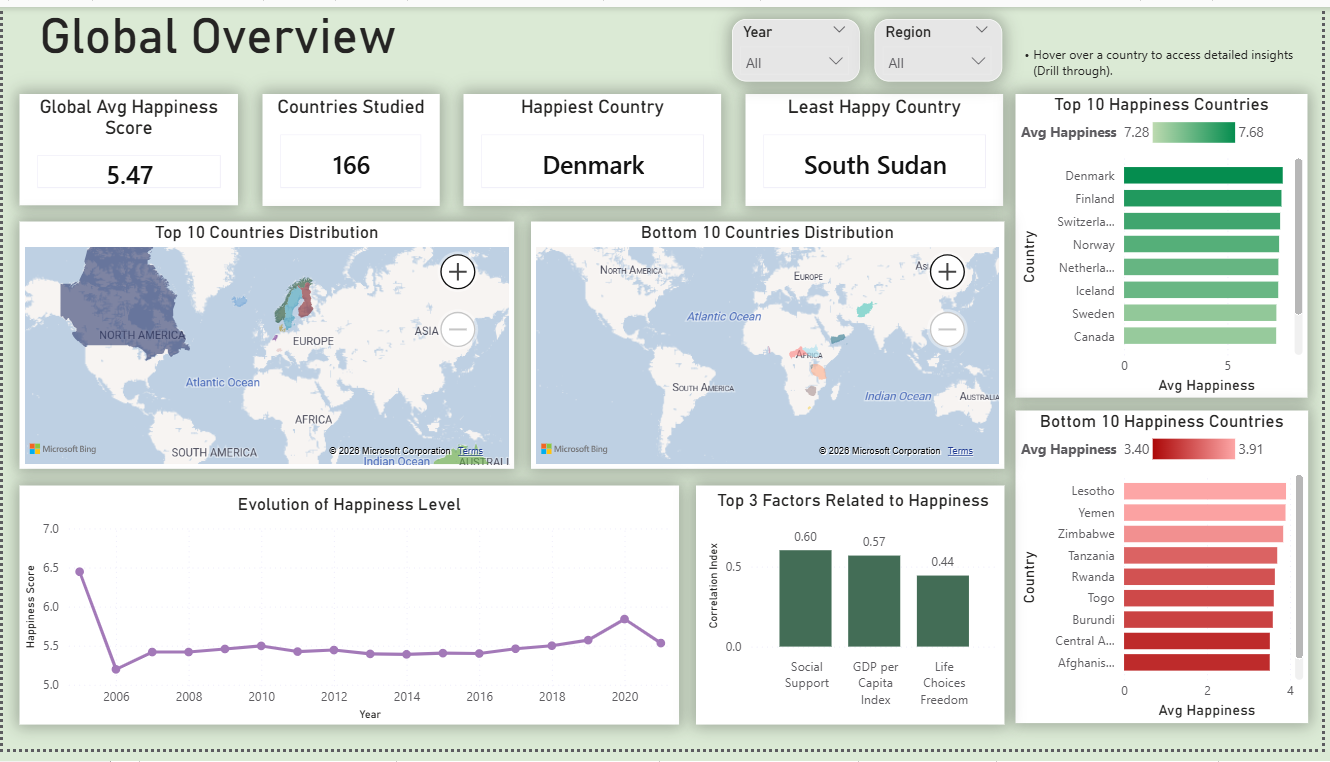

This screenshot's page, from the dashboard's own definition file:
{"tool":"powerbi","page":{"name":"Overview","canvas":[1280,720],"ordinal":10},"visuals":[{"type":"cardVisual","title":"Global Avg Happiness Score","fields":{"Data":["Measures (2).Avg Happiness"]},"box":[16,85,212,108],"z":0},{"type":"cardVisual","title":"Countries Studied","fields":{"Data":["Measures (2).Country Count"]},"box":[251.7,85,171.7,108.3],"z":1000},{"type":"cardVisual","title":"Happiest Country","fields":{"Data":["Measures (2).Top Happiness Country"]},"box":[446.7,85,250,108.3],"z":2000},{"type":"cardVisual","title":"Least Happy Country","fields":{"Data":["Measures (2).Bottom Happiness Country"]},"box":[720,85,250,108.3],"z":3000},{"type":"slicer","fields":{"Values":["dim_year.Year"]},"box":[707,11,123.9,60.9],"z":4000},{"type":"slicer","fields":{"Values":["dim_country.Region"]},"box":[846,11,123.9,60.9],"z":5000},{"type":"textbox","title":"Global Overview ","box":[16,0,576,64],"z":6000},{"type":"clusteredBarChart","title":"Top 10 Happiness Countries","fields":{"Y":["Measures (2).Avg Happiness"],"Category":["dim_country.Country"]},"box":[982.7,85,283.5,294.8],"z":7000},{"type":"clusteredBarChart","title":"Top 10 Happiness Countries","fields":{"Y":["Measures (2).Avg Happiness"],"Category":["dim_country.Country"]},"box":[982.7,400.6,283,295],"z":8000},{"type":"filledMap","title":"Top 10 Countries Distribution","fields":{"Category":["dim_country.Country"],"Series":["dim_country.Country"]},"box":[16,208,480,240],"z":9000},{"type":"filledMap","title":"Bottom 10 Countries Distribution","fields":{"Category":["dim_country.Country"],"Series":["dim_country.Country"]},"box":[512,208,459,240],"z":10000},{"type":"lineChart","title":"Evolution of Happiness Level ","fields":{"Y":["Model Measures.Avg Happiness"],"Category":["dim_year.Year"]},"box":[16,464,640,232],"z":11000},{"type":"clusteredColumnChart","title":"Top 3 Factors Related to Happiness","fields":{"Category":["Factor.Factor"],"Y":["Model Measures.Correlation Selected"]},"box":[672,464,299,232],"z":12000},{"type":"textbox","box":[976,32,304,64],"z":13000}]}

Visuals, with their boxes in screenshot pixels (x1, y1, x2, y2), scaled from the page's 1280x720 canvas onto the 1330x762 screenshot:
"Global Avg Happiness Score" cardVisual: Rect(17, 90, 237, 204)
"Countries Studied" cardVisual: Rect(262, 90, 440, 205)
"Happiest Country" cardVisual: Rect(464, 90, 724, 205)
"Least Happy Country" cardVisual: Rect(748, 90, 1008, 205)
slicer - dim_year.Year: Rect(735, 12, 863, 76)
slicer - dim_country.Region: Rect(879, 12, 1008, 76)
"Global Overview " textbox: Rect(17, 0, 615, 68)
"Top 10 Happiness Countries" clusteredBarChart: Rect(1021, 90, 1316, 402)
"Top 10 Happiness Countries" clusteredBarChart: Rect(1021, 424, 1315, 736)
"Top 10 Countries Distribution" filledMap: Rect(17, 220, 515, 474)
"Bottom 10 Countries Distribution" filledMap: Rect(532, 220, 1009, 474)
"Evolution of Happiness Level " lineChart: Rect(17, 491, 682, 737)
"Top 3 Factors Related to Happiness" clusteredColumnChart: Rect(698, 491, 1009, 737)
textbox: Rect(1014, 34, 1329, 102)
